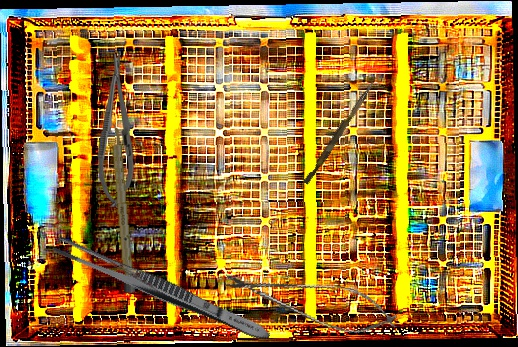Dressing Forceps: (50, 234, 274, 346)
Micro Scissor: (219, 260, 402, 343)
Needle Holder: (96, 54, 137, 208)
Pusher: (302, 78, 376, 187)
Scalpel Handle: (109, 123, 136, 294)
